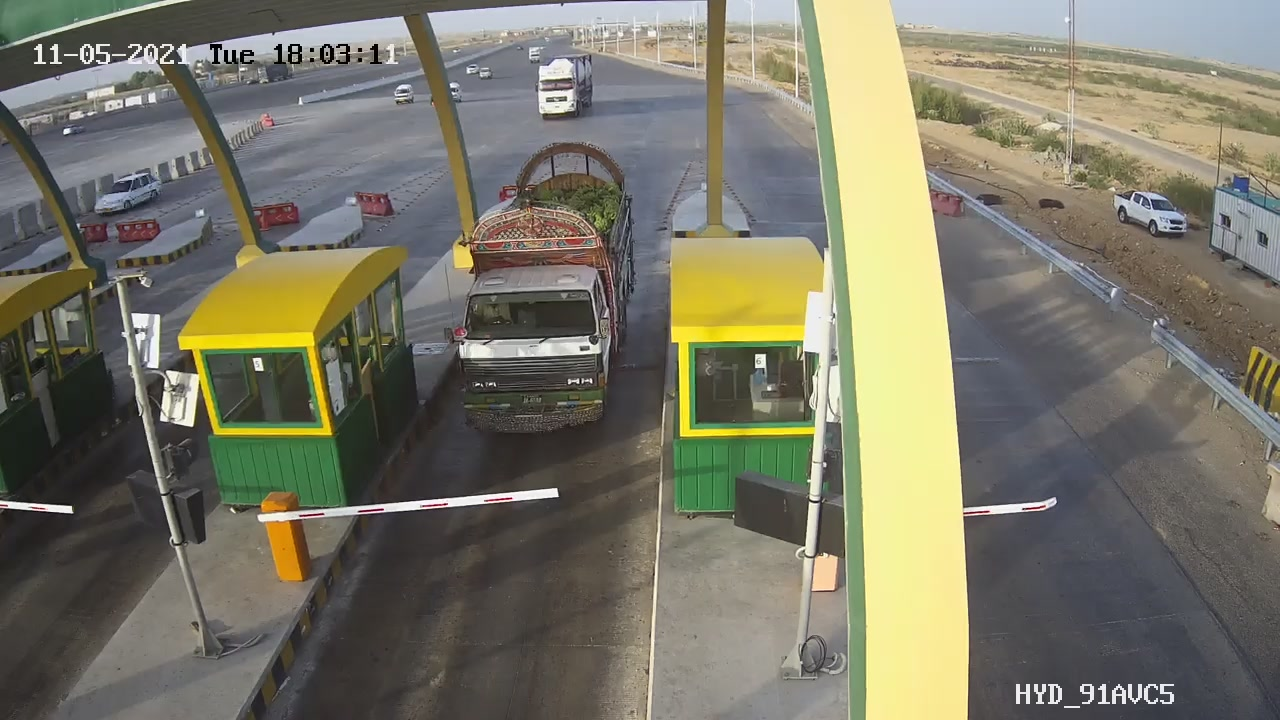F5: (429, 125, 657, 469)
